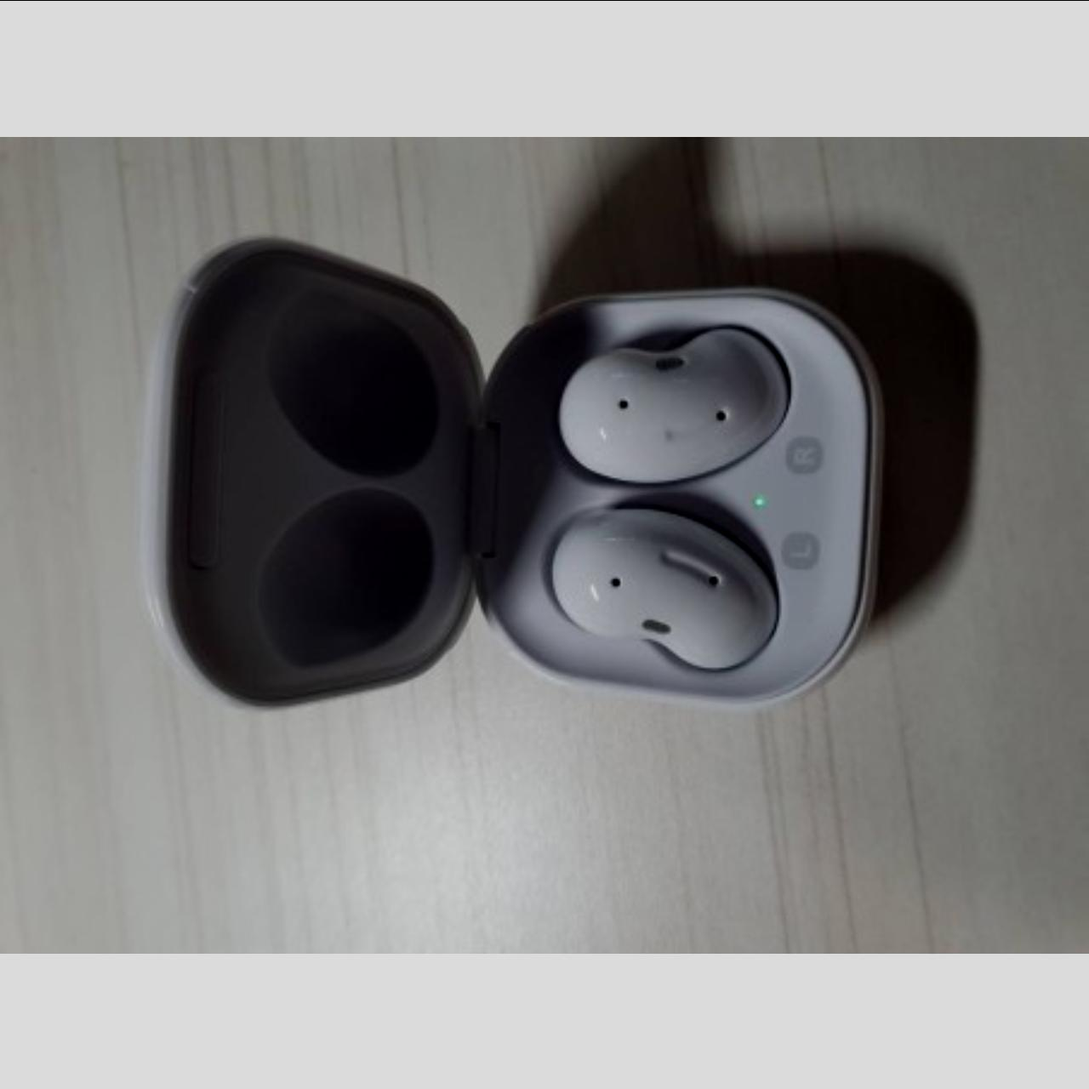Buds: (132, 234, 911, 718)
Buds_Units: (543, 500, 779, 676), (551, 316, 791, 486)
